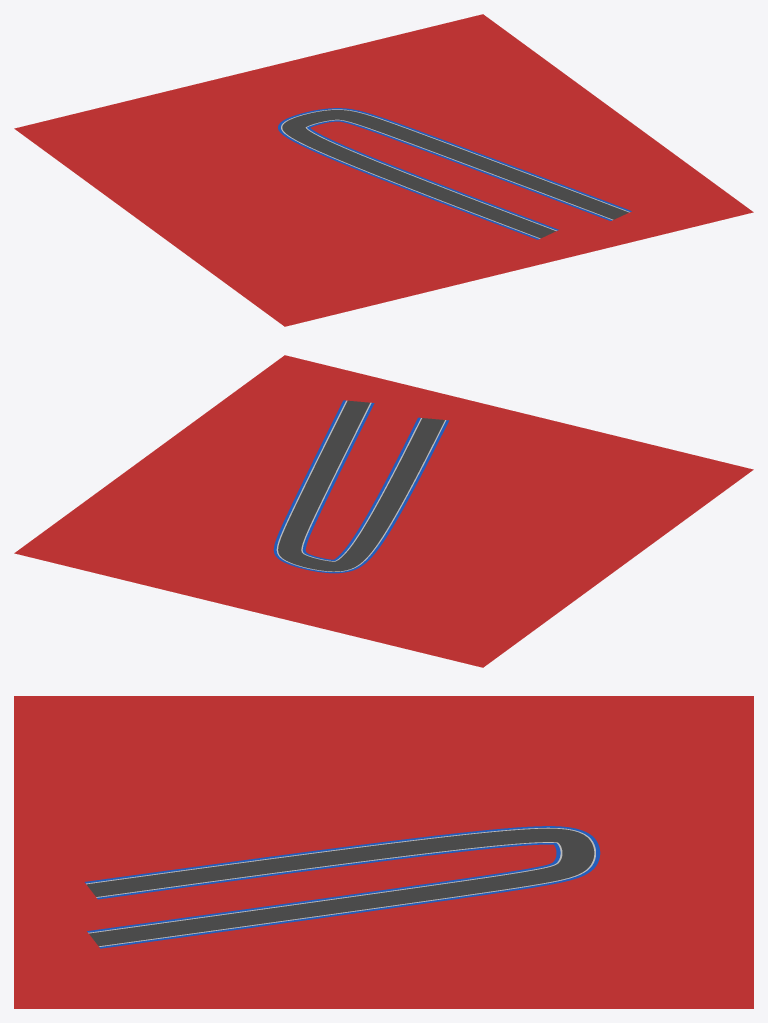
3 views of the same model, one above another, from view 1: azimuth 30°, elevation 25°; view 2: azimuth 150°, elevation 25°; view 3: azimuth 270°, elevation 25° (orthographic). The views are drawn at different scales.
Visible parts, largest first — view 1: Plane_001, Plane; view 2: Plane_001, Plane; view 3: Plane_001, Plane.
Part boxes in pixels (x1=…): Plane_001: x1=14, y1=14, x2=753, y2=326; Plane: x1=278, y1=108, x2=631, y2=239; Plane_001: x1=14, y1=355, x2=753, y2=667; Plane: x1=273, y1=400, x2=449, y2=573; Plane_001: x1=14, y1=696, x2=753, y2=1008; Plane: x1=84, y1=826, x2=600, y2=948.
Bounding box in the file's own units: 16.25 × 16.25 × 0.001.
